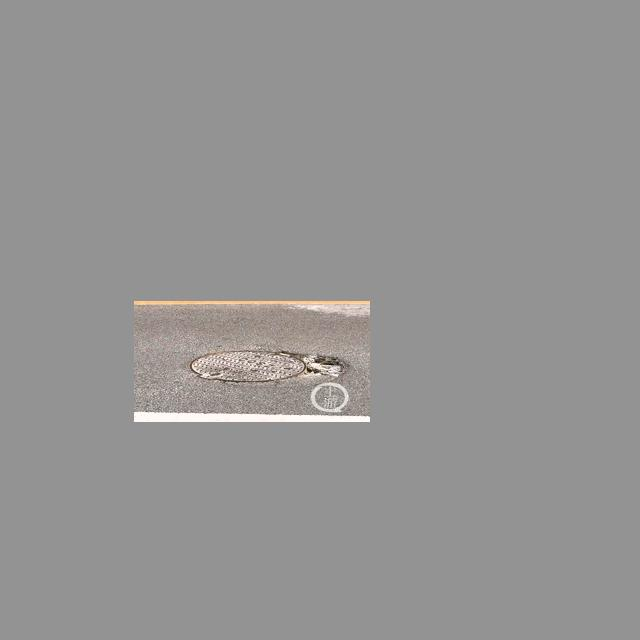circle: (187, 348, 353, 386)
